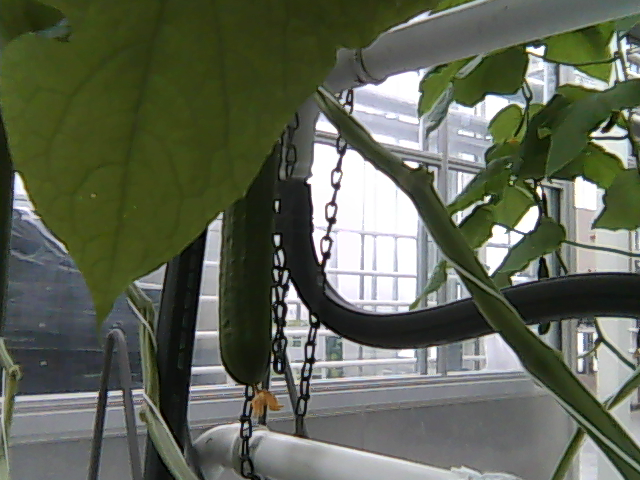concombre: (217, 124, 282, 419)
